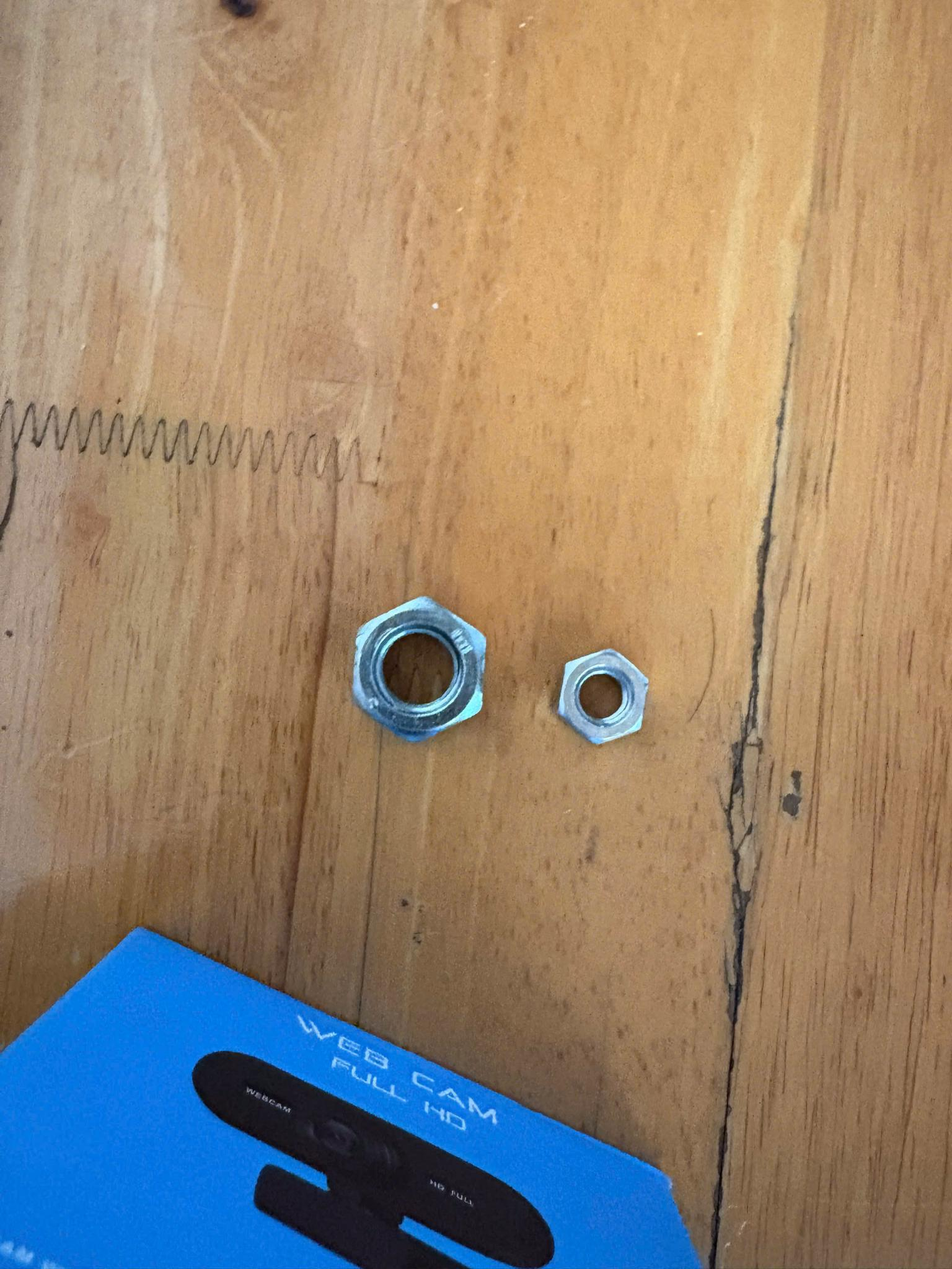nut: (325, 576, 512, 768), (548, 645, 668, 756)
